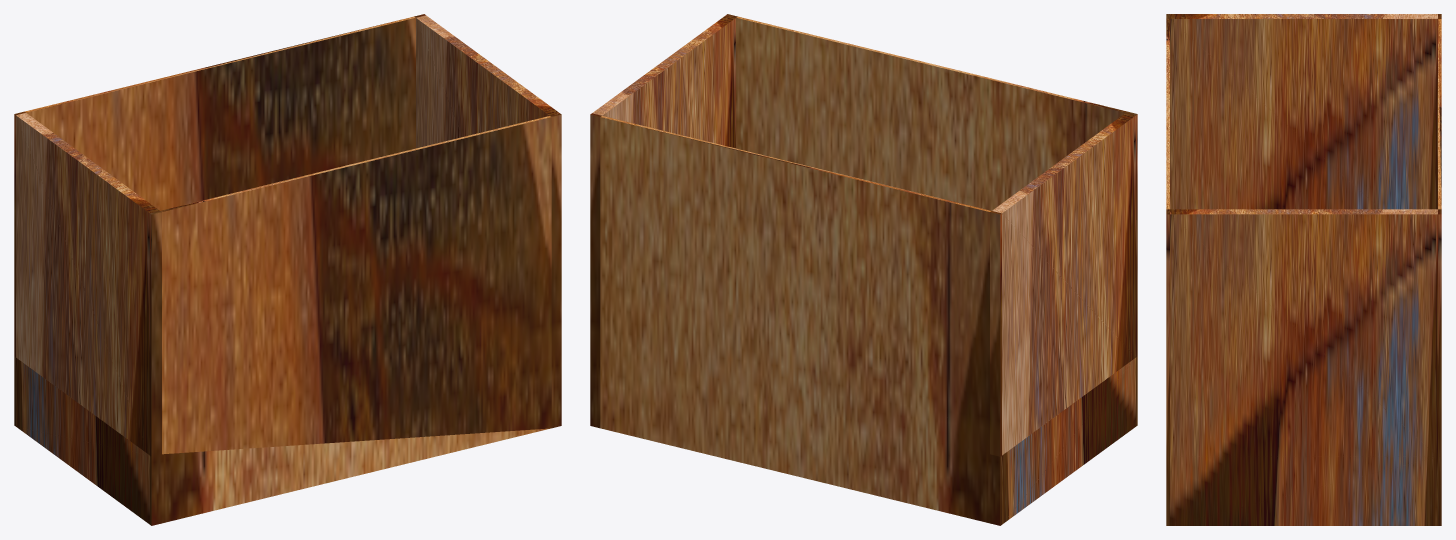
Rendered from bucket.obj.
3 views of the same model, side by side, from view 1: azimuth 30°, elevation 25°; view 2: azimuth 150°, elevation 25°; view 3: azimuth 270°, elevation 25° (orthographic).
Parts seen in each view (by area): view 1: Cube.002; view 2: Cube.002; view 3: Cube.002.
Boxes of the visible parts, x1,y1,x2,y2 form: Cube.002: [14, 14, 561, 525]; Cube.002: [590, 14, 1137, 525]; Cube.002: [1166, 14, 1441, 525].
Size of the model in its own units: 3.7 by 2.68 by 2.15.
